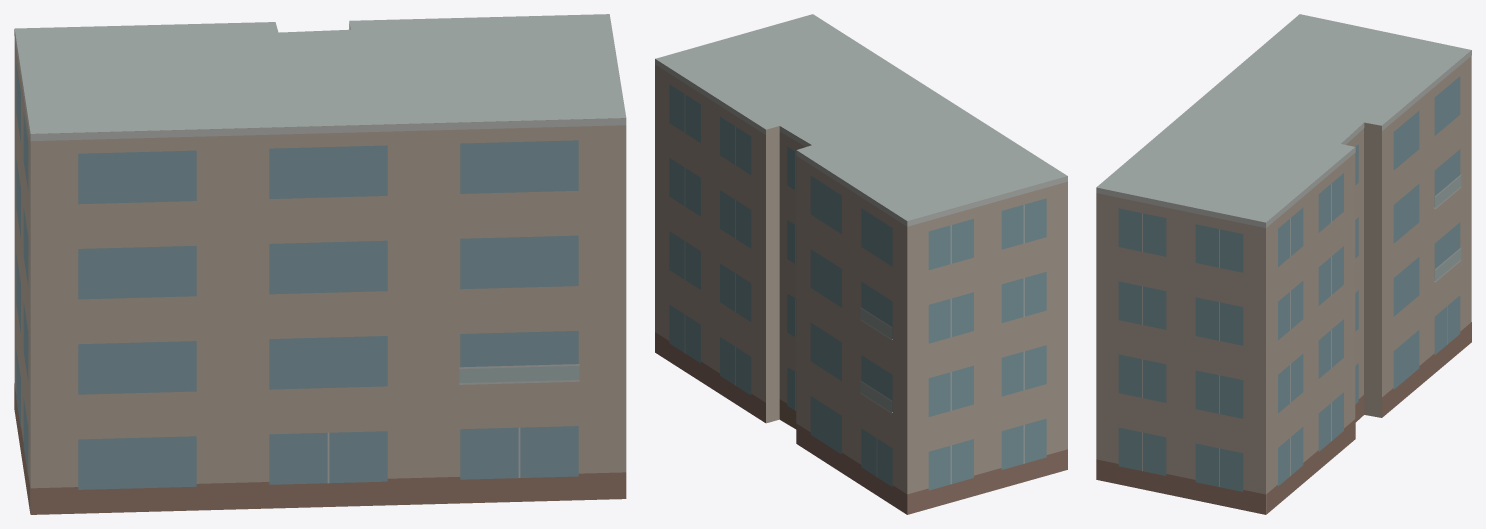
File: survey-upis-32891801.glb
The picture shows the model from 3 angles, left to right: view 1: azimuth 30°, elevation 25°; view 2: azimuth 150°, elevation 25°; view 3: azimuth 270°, elevation 25°; orthographic projection. The views are drawn at different scales.
Visible parts, largest first — view 1: survey-upis-32891801.tmp; view 2: survey-upis-32891801.tmp; view 3: survey-upis-32891801.tmp.
Boxes of the visible parts, bbox=[...] form: survey-upis-32891801.tmp: bbox=[14, 14, 626, 514]; survey-upis-32891801.tmp: bbox=[655, 14, 1067, 514]; survey-upis-32891801.tmp: bbox=[1096, 14, 1471, 514].
Size of the model in its own units: 19.6 by 12.8 by 14.91.
